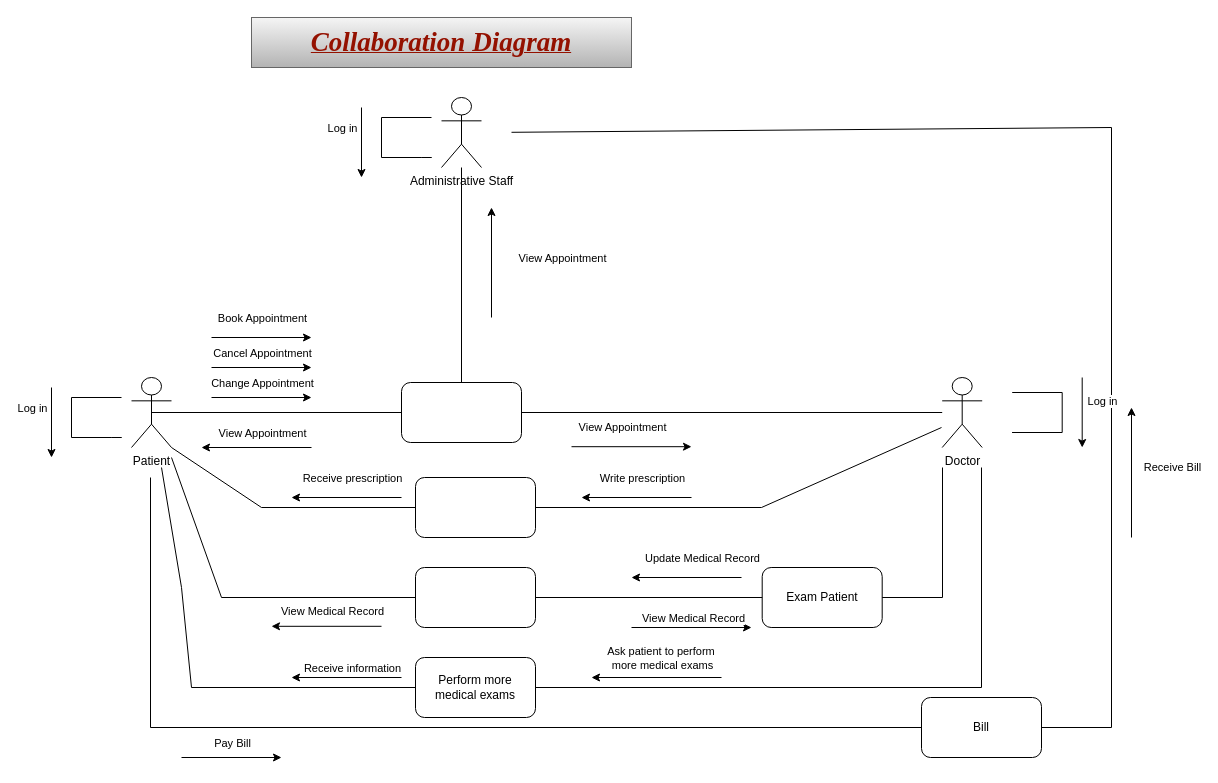
Some shapes in this 1218 by 783 pixel diagram are drawn without their labels. Each missing label, with the box of its shape:
Appointment: (400, 382, 522, 442)
Medical Record: (414, 566, 536, 628)
Provide Prescription: (414, 476, 536, 538)
